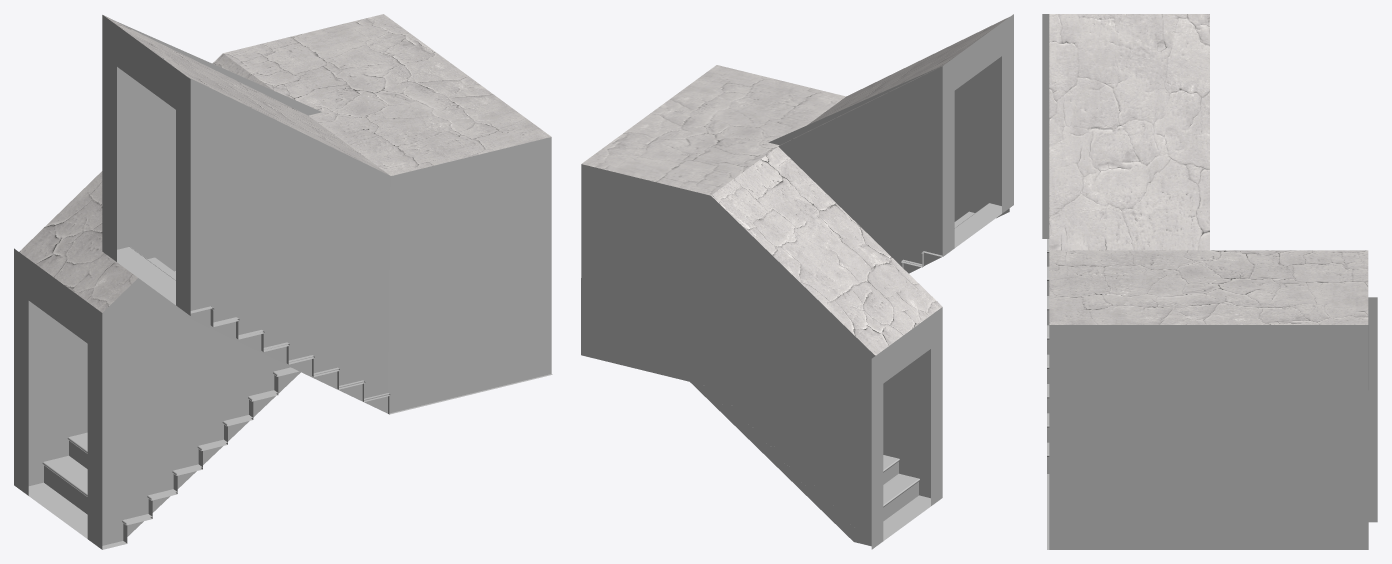
Rendered from Stairs.fbx.
3 renders of one model, left to right at view 1: azimuth 30°, elevation 25°; view 2: azimuth 150°, elevation 25°; view 3: azimuth 270°, elevation 25°, orthographic. The views are drawn at different scales.
Visible parts, largest first — view 1: Stairs2; view 2: Stairs2; view 3: Stairs2.
Boxes of the visible parts, box(x1,y1,x2,y2) form: Stairs2: box(14, 14, 552, 549); Stairs2: box(581, 14, 1013, 549); Stairs2: box(1042, 14, 1377, 549).
Bounding box in the file's own units: 6.44 × 9.04 × 5.4.
